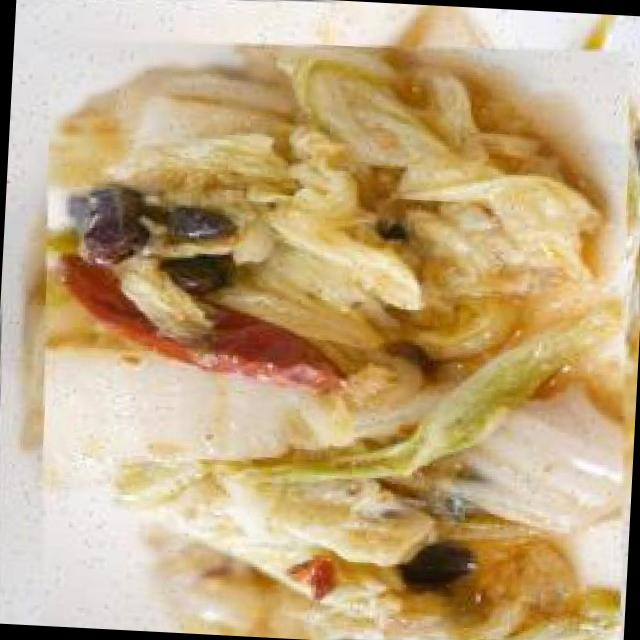chinese_cabbage: (11, 27, 640, 640)
